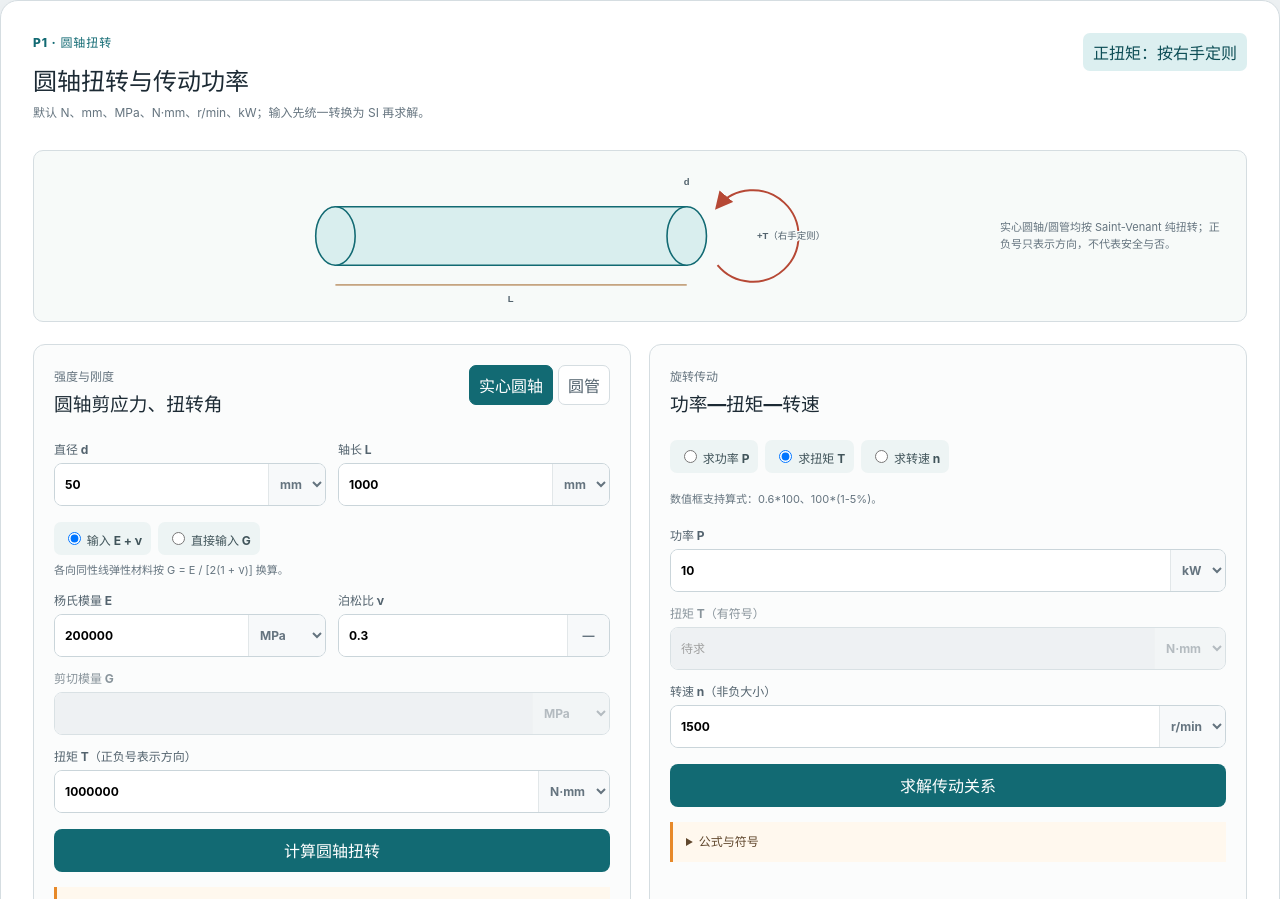
Test: TorsionCalculator › enforces mutually exclusive power solve fields
Expected: the field named "传动扭矩" is disabled, [671,628,1154,668]
Expected: the field named "功率" is enabled, [671,550,1170,590]
Click the 1st radio button.
click(690, 456)  # box [684,450,697,463]
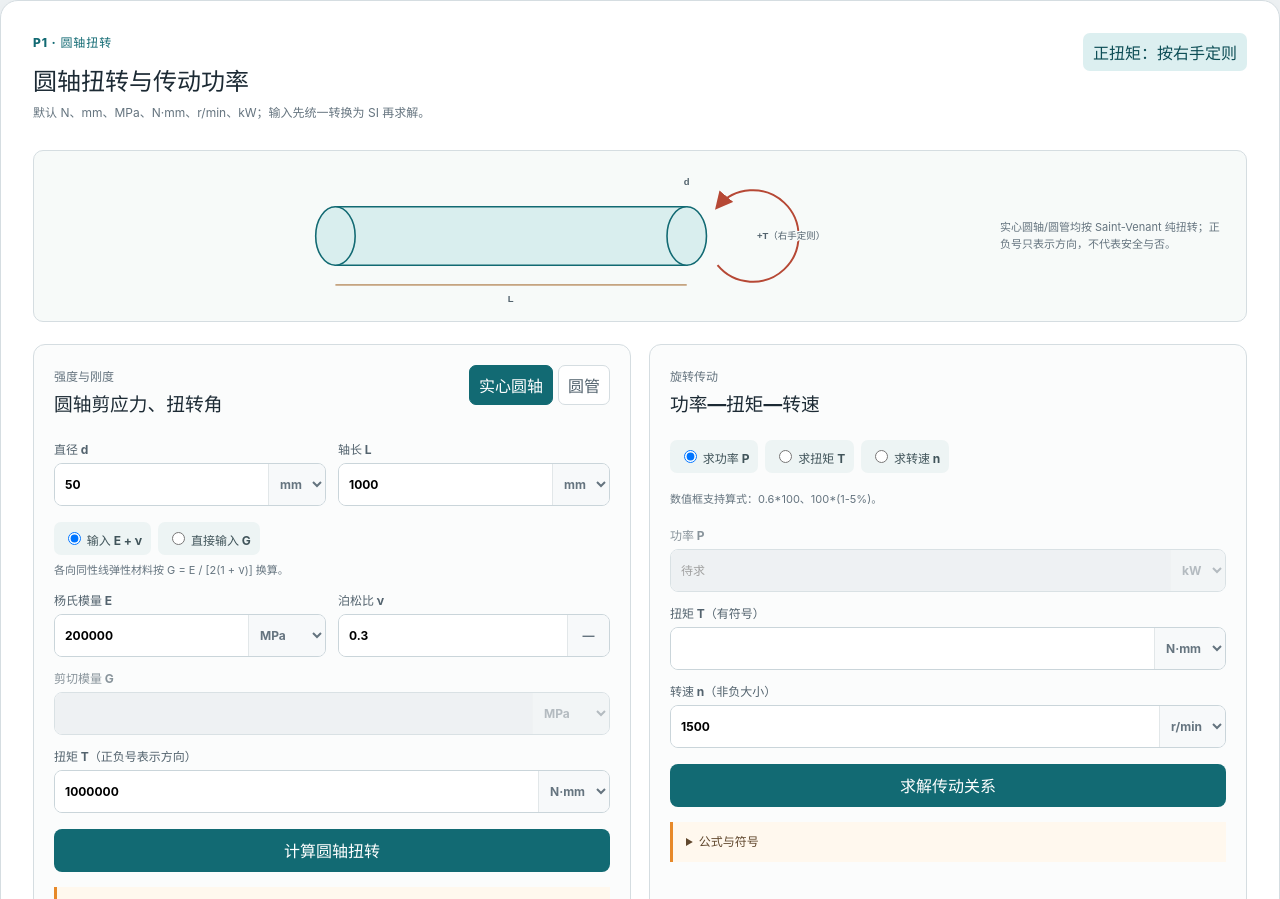
Result: the field named "功率" is disabled at [671,550,1170,590]
Result: the field named "传动扭矩" is enabled at [671,628,1154,668]
